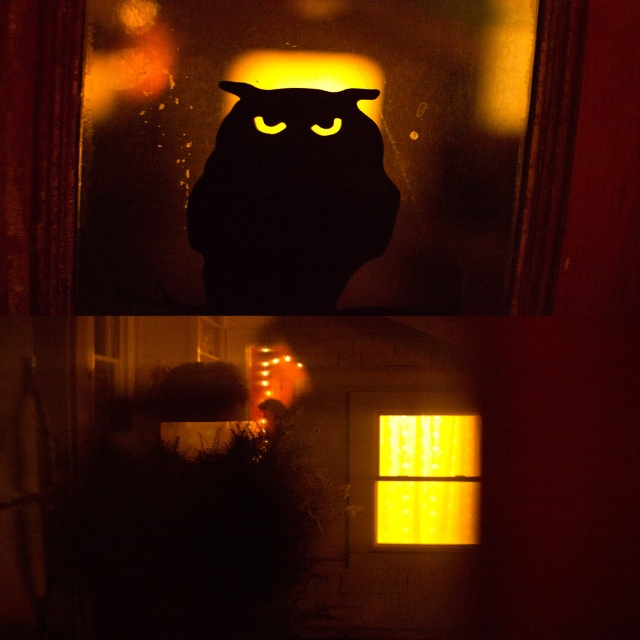Owl: (186, 75, 409, 309)
